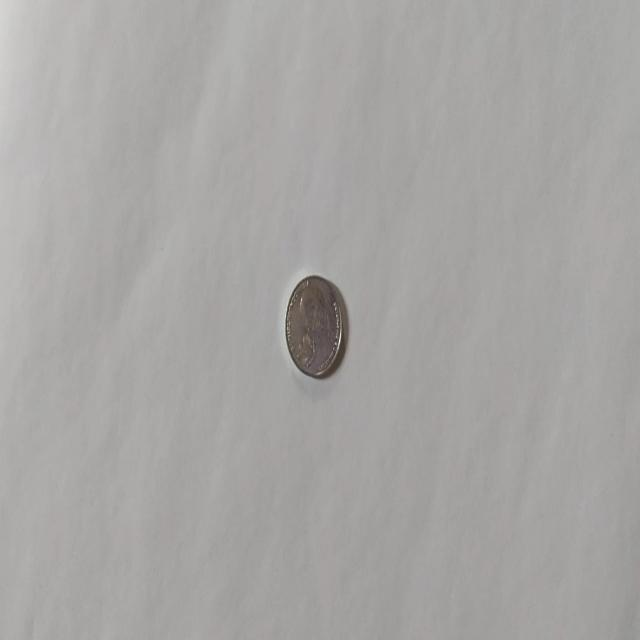lima ratus rupiah: (284, 273, 343, 379)
